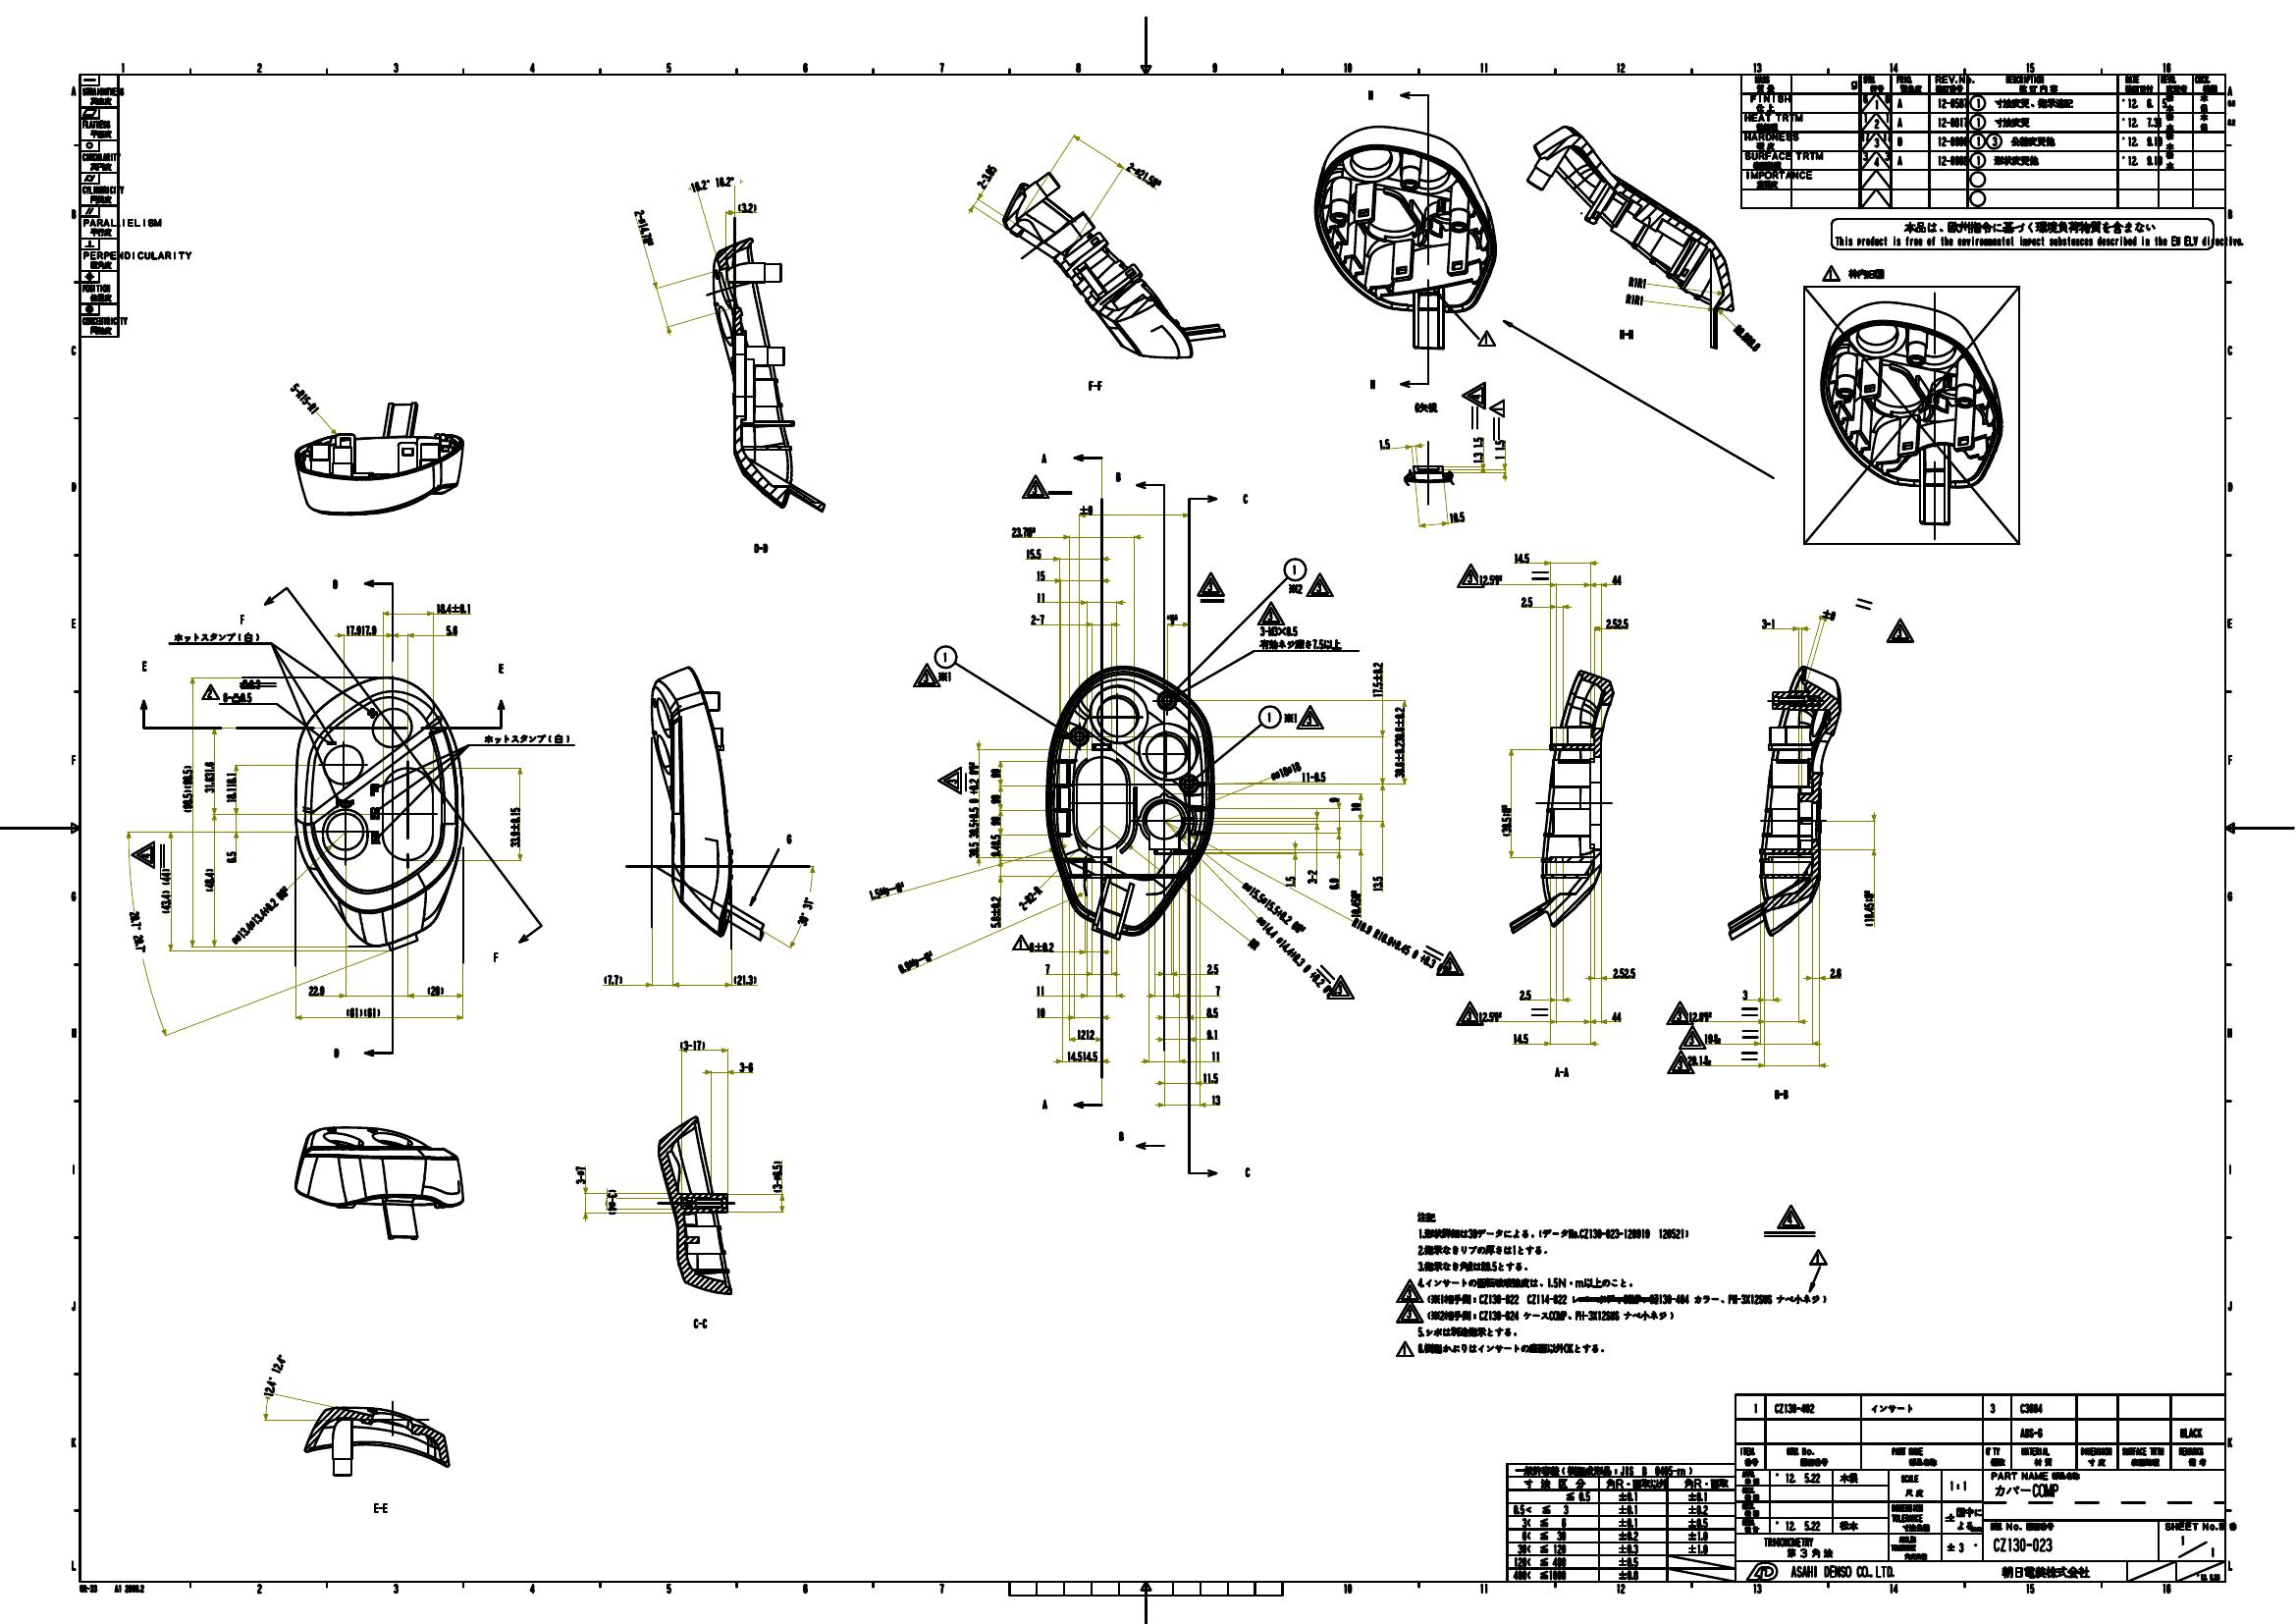anntotation_text: (1412, 1209, 1829, 1353), (1830, 216, 2245, 250), (1258, 624, 1342, 650), (480, 731, 573, 747), (172, 631, 262, 645), (1015, 471, 1049, 501), (1458, 380, 1488, 411), (126, 838, 156, 870), (1293, 703, 1326, 731), (935, 765, 964, 794), (1885, 615, 1917, 643), (1664, 998, 1695, 1026), (1193, 571, 1226, 598), (1774, 1204, 1809, 1229), (1433, 949, 1465, 975), (908, 663, 942, 687), (1393, 1301, 1426, 1325), (1281, 554, 1309, 582), (1455, 562, 1484, 589), (1303, 571, 1333, 598), (1256, 599, 1286, 626), (1325, 974, 1354, 1000), (1455, 1000, 1484, 1026), (1665, 1049, 1695, 1076), (1393, 1278, 1423, 1304), (1676, 1025, 1708, 1049), (933, 642, 957, 668), (1258, 705, 1281, 729), (1846, 265, 1885, 279), (1818, 262, 1843, 283), (197, 680, 220, 701), (1411, 399, 1440, 415), (1806, 1246, 1827, 1267), (1488, 395, 1505, 418), (1476, 329, 1497, 346), (369, 1497, 390, 1515), (1010, 933, 1029, 951), (1395, 1341, 1414, 1359), (1769, 1086, 1792, 1100), (750, 540, 768, 557), (1086, 376, 1103, 392), (1288, 582, 1307, 596), (1616, 327, 1634, 341), (1551, 1065, 1570, 1077), (1282, 710, 1298, 724), (690, 1318, 708, 1330), (495, 659, 506, 677), (1238, 490, 1251, 504), (1365, 88, 1375, 104), (490, 949, 501, 965), (139, 657, 149, 673), (1112, 469, 1123, 485), (1240, 1164, 1251, 1179), (1247, 937, 1260, 949), (783, 831, 794, 845), (1038, 450, 1049, 464), (1038, 1097, 1049, 1111), (1116, 1128, 1126, 1142), (332, 1046, 341, 1062), (330, 576, 339, 592), (237, 612, 246, 626), (1368, 376, 1375, 392)
dimension_text: (1238, 949, 1353, 963), (966, 759, 980, 858), (1346, 935, 1442, 949), (1393, 705, 1407, 780), (1233, 902, 1314, 914), (220, 909, 300, 921), (249, 1367, 295, 1383), (179, 765, 193, 816), (158, 866, 172, 916), (114, 924, 160, 939), (690, 178, 736, 190), (1370, 659, 1384, 698), (434, 601, 473, 615), (1498, 801, 1513, 840), (1862, 886, 1874, 930), (987, 895, 1003, 928), (894, 956, 936, 968), (508, 805, 520, 847), (622, 221, 664, 234), (866, 884, 906, 896), (1123, 169, 1163, 181), (223, 770, 237, 805), (202, 758, 214, 796), (1008, 524, 1038, 540), (344, 622, 378, 636), (769, 1158, 782, 1195), (344, 1007, 381, 1019), (286, 392, 323, 404), (1015, 891, 1047, 905), (1268, 765, 1303, 777), (1065, 1049, 1100, 1062), (676, 1037, 706, 1051), (1602, 615, 1632, 629), (1347, 888, 1361, 917), (1730, 332, 1764, 344), (1298, 770, 1326, 784), (606, 1186, 618, 1216), (791, 905, 820, 917), (971, 170, 1001, 183), (1491, 438, 1507, 460), (220, 691, 253, 701), (202, 865, 214, 893), (1477, 1009, 1504, 1021), (731, 974, 757, 986), (573, 1162, 587, 1185), (1611, 965, 1635, 977), (989, 833, 1001, 858), (1511, 550, 1532, 564), (1024, 547, 1045, 561), (1026, 942, 1054, 953), (1625, 274, 1646, 288), (304, 982, 327, 995), (736, 1060, 755, 1074), (1511, 1032, 1532, 1044), (1370, 872, 1383, 893), (1200, 1070, 1221, 1083), (1075, 1028, 1096, 1040), (1623, 294, 1644, 306), (1827, 965, 1843, 981), (736, 202, 759, 213), (1607, 1009, 1623, 1023), (1518, 594, 1534, 608), (1031, 568, 1047, 582), (1326, 875, 1340, 891), (1209, 1091, 1223, 1107), (1205, 961, 1221, 975), (603, 974, 624, 984), (423, 984, 444, 995), (1029, 613, 1047, 626), (1305, 866, 1318, 884), (223, 847, 235, 865), (443, 622, 460, 634), (1375, 438, 1393, 450), (1518, 988, 1532, 1002), (1822, 606, 1836, 620), (1609, 573, 1623, 587), (1282, 874, 1296, 888), (989, 766, 1003, 780), (1472, 450, 1486, 464), (1758, 617, 1774, 629), (1203, 1005, 1219, 1018), (1035, 589, 1047, 603), (1079, 503, 1093, 515), (1165, 613, 1179, 626), (1209, 1049, 1221, 1063), (1205, 1025, 1217, 1039), (1449, 511, 1463, 524), (1347, 800, 1360, 812), (989, 791, 1000, 805), (1472, 436, 1483, 450), (1214, 982, 1223, 998), (1036, 1004, 1045, 1018), (1035, 984, 1045, 995), (989, 816, 1000, 826), (1741, 988, 1750, 1000), (1328, 796, 1339, 805), (1043, 961, 1051, 974)
object: (1042, 664, 1216, 942), (293, 675, 466, 951), (1525, 125, 1734, 350), (1000, 170, 1226, 360), (1818, 299, 2003, 527), (1312, 123, 1497, 350), (648, 664, 766, 942), (1725, 664, 1841, 942), (711, 237, 826, 515), (1507, 668, 1614, 935), (292, 1125, 464, 1241), (293, 401, 464, 517), (655, 1114, 736, 1295), (302, 1406, 450, 1478), (1402, 464, 1456, 487)
title_block: (1732, 1392, 2226, 1584), (1739, 72, 2226, 211), (1504, 1461, 1736, 1584), (77, 72, 121, 339)
